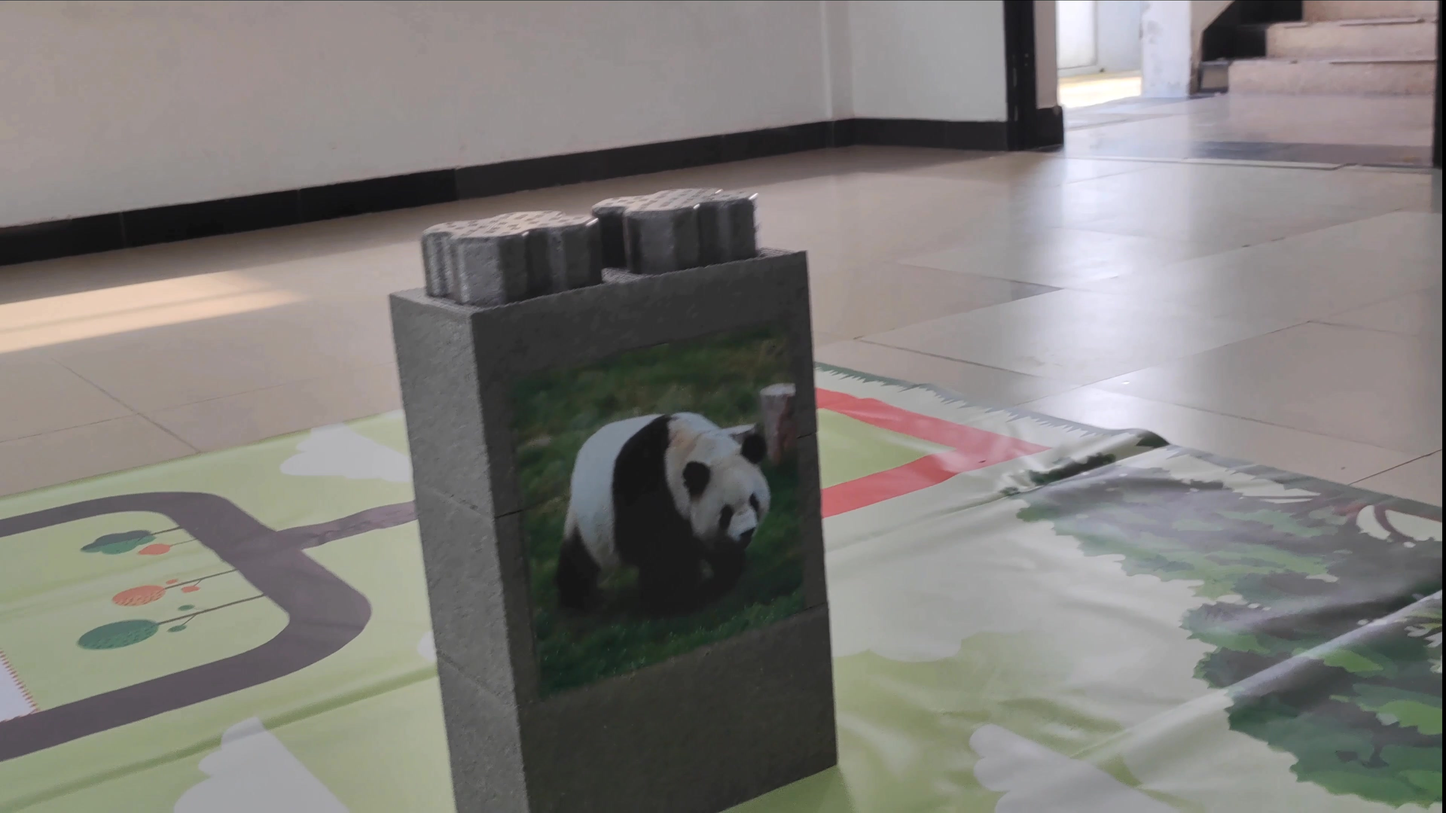panda: (522, 384, 802, 619)
